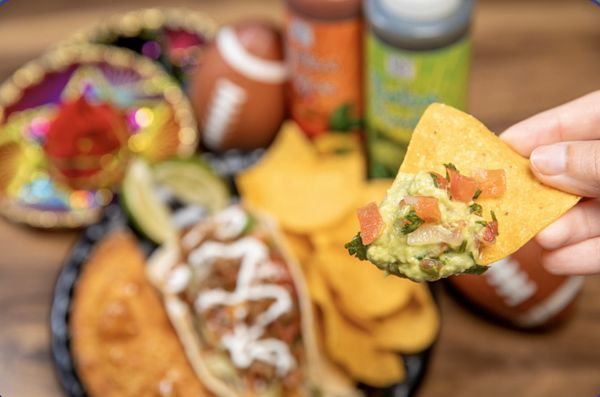soup: (351, 103, 578, 284)
